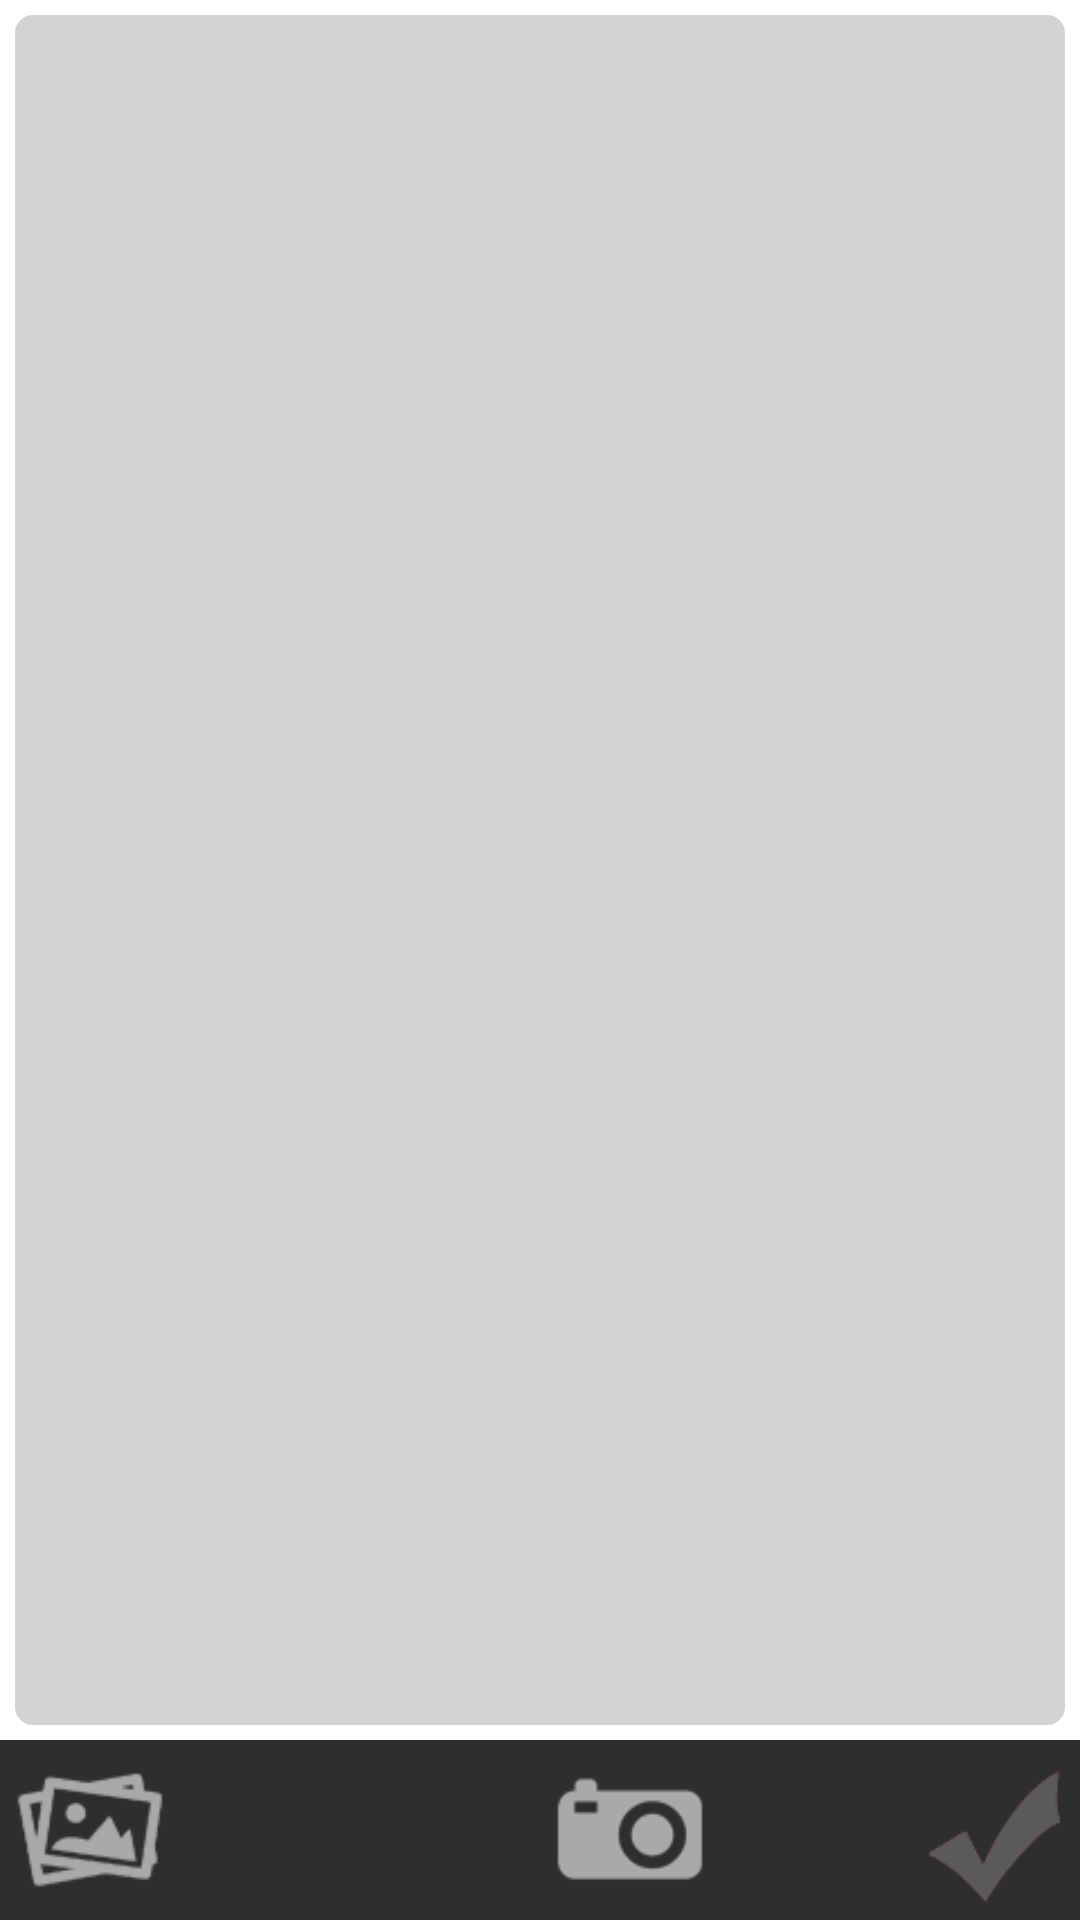

Point at icon controls on the screen. Image size 1080×1920, points as (x,y).
camera: (630,1829)
gallery: (90,1830)
publish: (994,1836)
